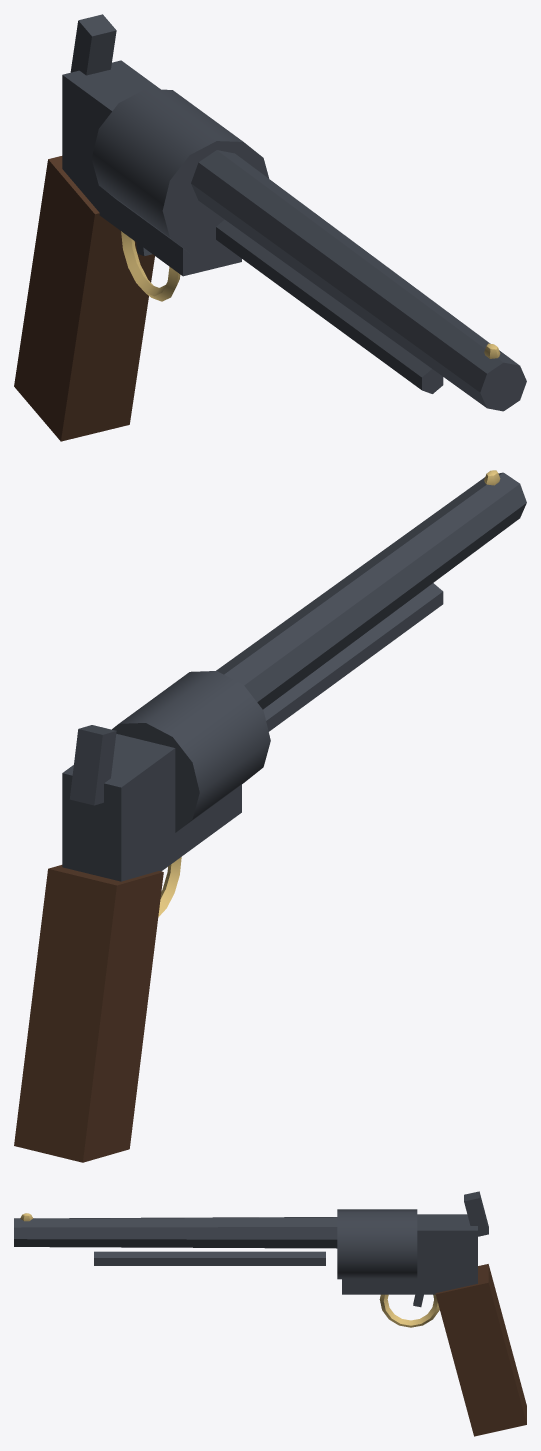
File: SM_Revolver.glb
3 renders of one model, top to bottom at view 1: azimuth 30°, elevation 25°; view 2: azimuth 150°, elevation 25°; view 3: azimuth 270°, elevation 25°, orthographic. The views are drawn at different scales.
Parts seen in each view (by area): view 1: SM_Revolver; view 2: SM_Revolver; view 3: SM_Revolver.
Part boxes in pixels (x1,y1,x2,y2): SM_Revolver: (14, 14, 526, 441); SM_Revolver: (14, 470, 526, 1162); SM_Revolver: (14, 1191, 526, 1436).
Bounding box in the file's own units: 4.4 × 16.02 × 32.05.
